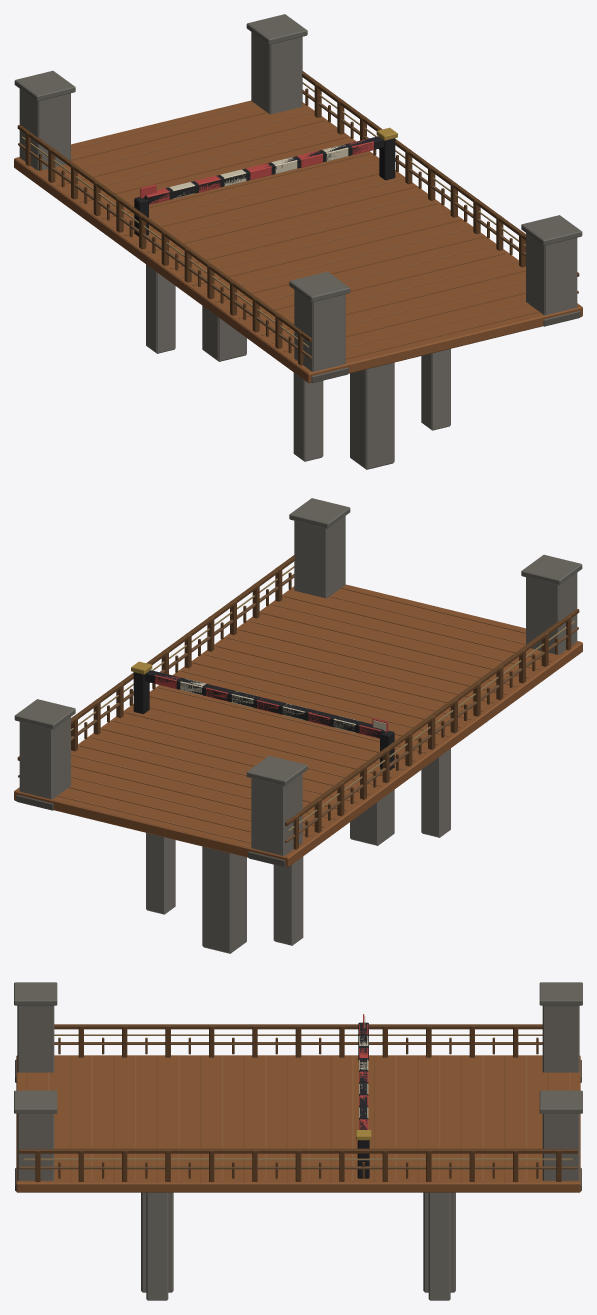
Rendered from TollBridge.glb.
3 views of the same model, one above another, from view 1: azimuth 30°, elevation 25°; view 2: azimuth 150°, elevation 25°; view 3: azimuth 270°, elevation 25° (orthographic). The views are drawn at different scales.
Visible parts, largest first — view 1: Deck, Body, BarrierArm; view 2: Deck, Body, BarrierArm; view 3: Deck, Body, BarrierArm.
Boxes of the visible parts, left/top/right/bottom form: Deck: left=14, top=100, right=582, bottom=383; Body: left=14, top=14, right=582, bottom=469; BarrierArm: left=140, top=136, right=384, bottom=204; Deck: left=14, top=584, right=582, bottom=867; Body: left=14, top=498, right=582, bottom=953; BarrierArm: left=144, top=670, right=388, bottom=738; Deck: left=16, top=1055, right=580, bottom=1192; Body: left=14, top=982, right=582, bottom=1300; BarrierArm: left=359, top=1014, right=368, bottom=1129.
Size of what is drawn, in the model's own units: 28 by 24.47 by 52.4.
